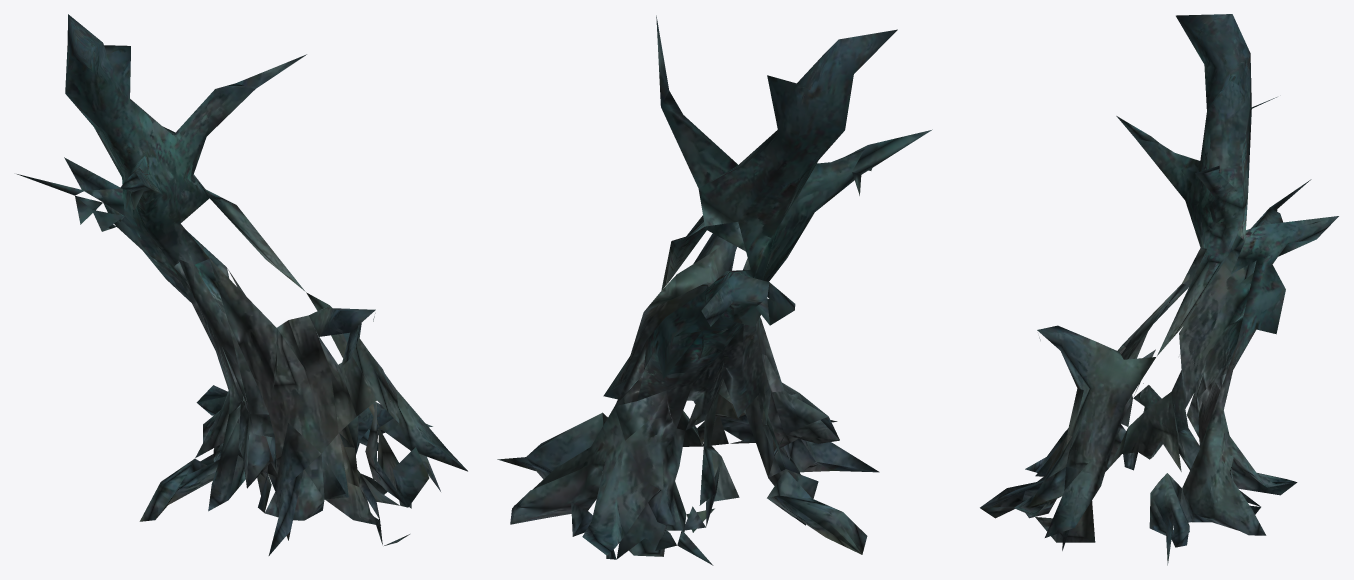
File: swamp-tree-3.glb
The picture shows the model from 3 angles, left to right: view 1: azimuth 30°, elevation 25°; view 2: azimuth 150°, elevation 25°; view 3: azimuth 270°, elevation 25°; orthographic projection. The views are drawn at different scales.
Parts seen in each view (by area): view 1: geometry_0; view 2: geometry_0; view 3: geometry_0.
Part boxes in pixels (left/top/right/bottom): geometry_0: left=17, top=14, right=467, bottom=555; geometry_0: left=497, top=15, right=932, bottom=565; geometry_0: left=980, top=14, right=1338, bottom=565.
Bounding box in the file's own units: 0.5573 × 0.7429 × 0.5966.
1 material, 1 textured.
